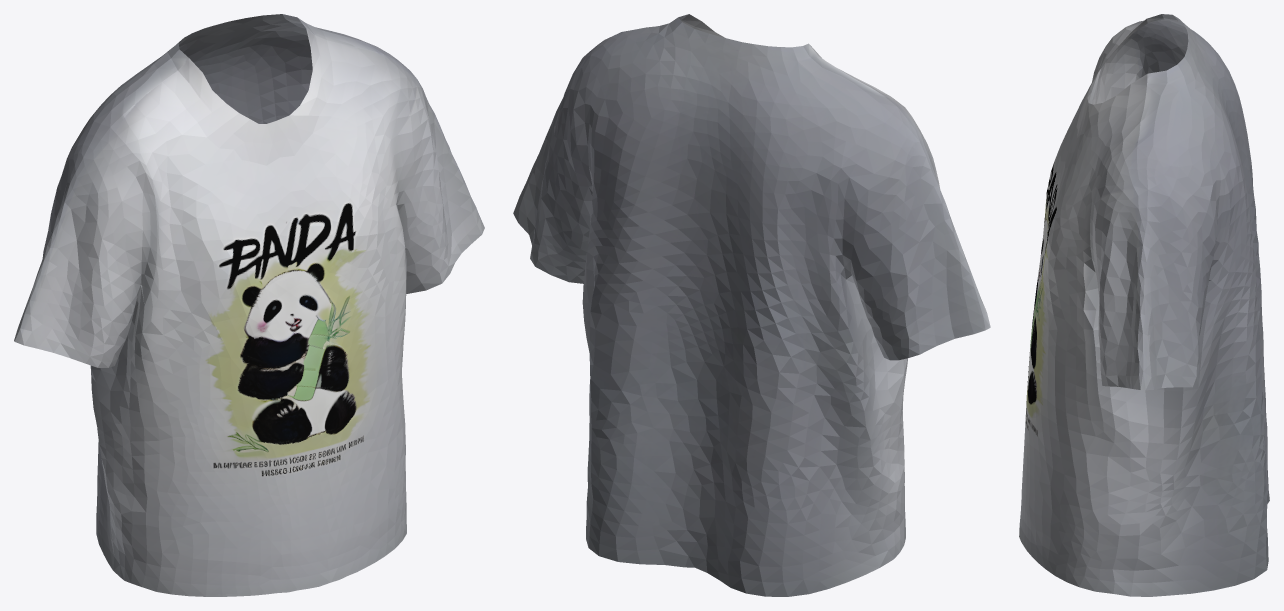
The model's file is scaled.obj.
3 views of the same model, side by side, from view 1: azimuth 30°, elevation 25°; view 2: azimuth 150°, elevation 25°; view 3: azimuth 270°, elevation 25° (orthographic). The views are drawn at different scales.
Visible parts, largest first — view 1: textured; view 2: textured; view 3: textured.
Part boxes in pixels (x1,y1,x2,y2): textured: (14,14,484,596); textured: (513,14,990,596); textured: (1019,14,1269,596).
Bounding box in the file's own units: 0.5799 × 0.5968 × 0.2754.
1 material, 1 textured.
